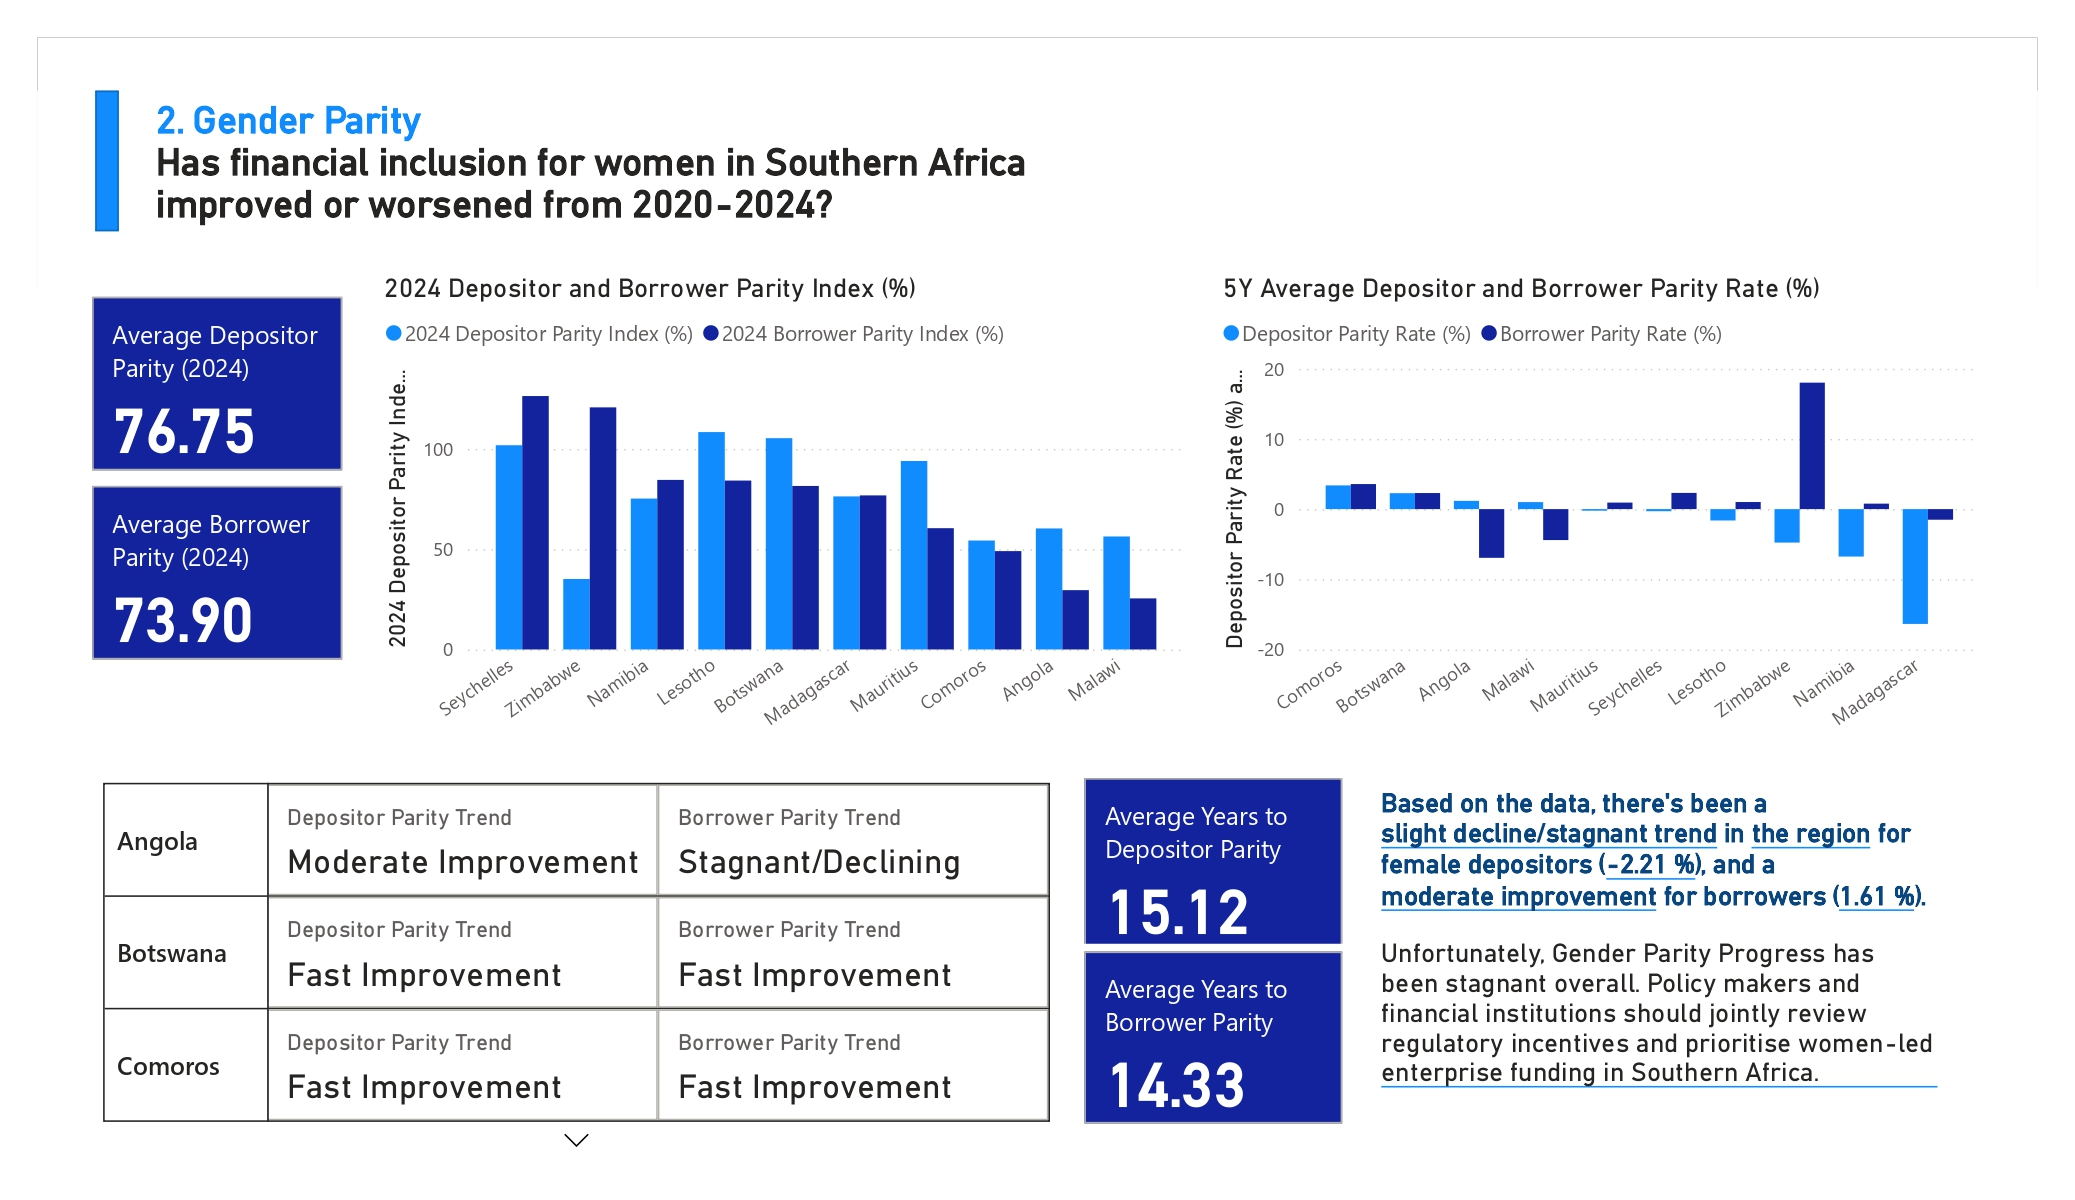

What the dashboard file says about the page in this screenshot:
{"tool":"powerbi","page":{"name":"2. Gender Parity","canvas":[1280,720],"ordinal":2},"visuals":[{"type":"clusteredColumnChart","title":"2024 Depositor and Borrower Parity Index (%)","fields":{"Category":["2_imf_gender_parity_commercial_banking.country"],"Y":["Sum(2_imf_gender_parity_commercial_banking.depositor_parity_2024)","Sum(2_imf_gender_parity_commercial_banking.borrower_parity_2024)"]},"box":[216.7,149.5,522.4,314.1],"z":0},{"type":"clusteredColumnChart","title":"5Y Average Depositor and Borrower Parity Rate (%)","fields":{"Category":["2_imf_gender_parity_commercial_banking.country"],"Y":["Sum(2_imf_gender_parity_commercial_banking.avg_annual_depositor_improvement)","Sum(2_imf_gender_parity_commercial_banking.avg_annual_borrower_improvement)"]},"box":[752.5,149.5,495.5,314.1],"z":1000},{"type":"shape","box":[37,33.6,15.1,90.7],"z":2000},{"type":"textbox","box":[70.6,33.6,582.9,102.5],"z":3000},{"type":"cardVisual","fields":{"Rows":["2_imf_gender_parity_commercial_banking.country"],"Data":["Min(2_imf_gender_parity_commercial_banking.depositor_trend_class)","Min(2_imf_gender_parity_commercial_banking.borrower_trend_class)"]},"box":[37,451.9,616.5,268.8],"z":4000},{"type":"cardVisual","fields":{"Data":["Avg(2_imf_gender_parity_commercial_banking.depositor_parity_2024)"]},"box":[30.2,161.3,169.7,120.9],"z":5000},{"type":"cardVisual","fields":{"Data":["Avg(2_imf_gender_parity_commercial_banking.years_to_depositor_parity)"]},"box":[665.2,468.7,174.7,122.6],"z":6000},{"type":"cardVisual","fields":{"Data":["Avg(2_imf_gender_parity_commercial_banking.borrower_parity_2024)"]},"box":[30.2,282.2,169.7,120.9],"z":7000},{"type":"cardVisual","fields":{"Data":["Avg(2_imf_gender_parity_commercial_banking.years_to_borrower_parity)"]},"box":[665.2,579.5,174.7,120.9],"z":8000},{"type":"textbox","box":[855,475.4,366.2,221.7],"z":9000},{"type":"qnaVisual","box":[665.2,0,174.7,150],"z":10000}]}

Visuals, with their boxes in screenshot pixels (x1, y1, x2, y2):
"2024 Depositor and Borrower Parity Index (%)" clusteredColumnChart: x1=376 y1=271 x2=1192 y2=762
"5Y Average Depositor and Borrower Parity Rate (%)" clusteredColumnChart: x1=1213 y1=271 x2=1988 y2=762
shape: x1=95 y1=90 x2=119 y2=232
textbox: x1=148 y1=90 x2=1059 y2=250
cardVisual - 2_imf_gender_parity_commercial_banking.country x Min(2_imf_gender_parity_commercial_banking.depositor_trend_class): x1=95 y1=744 x2=1059 y2=1162
cardVisual - Avg(2_imf_gender_parity_commercial_banking.depositor_parity_2024): x1=85 y1=290 x2=350 y2=478
cardVisual - Avg(2_imf_gender_parity_commercial_banking.years_to_depositor_parity): x1=1077 y1=770 x2=1350 y2=961
cardVisual - Avg(2_imf_gender_parity_commercial_banking.borrower_parity_2024): x1=85 y1=478 x2=350 y2=667
cardVisual - Avg(2_imf_gender_parity_commercial_banking.years_to_borrower_parity): x1=1077 y1=943 x2=1350 y2=1132
textbox: x1=1373 y1=780 x2=1946 y2=1127
qnaVisual: x1=1077 y1=38 x2=1350 y2=272
